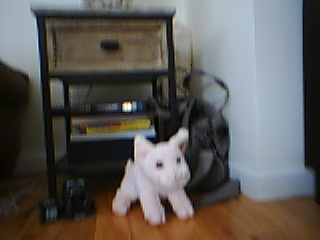piggy: (111, 126, 196, 228)
